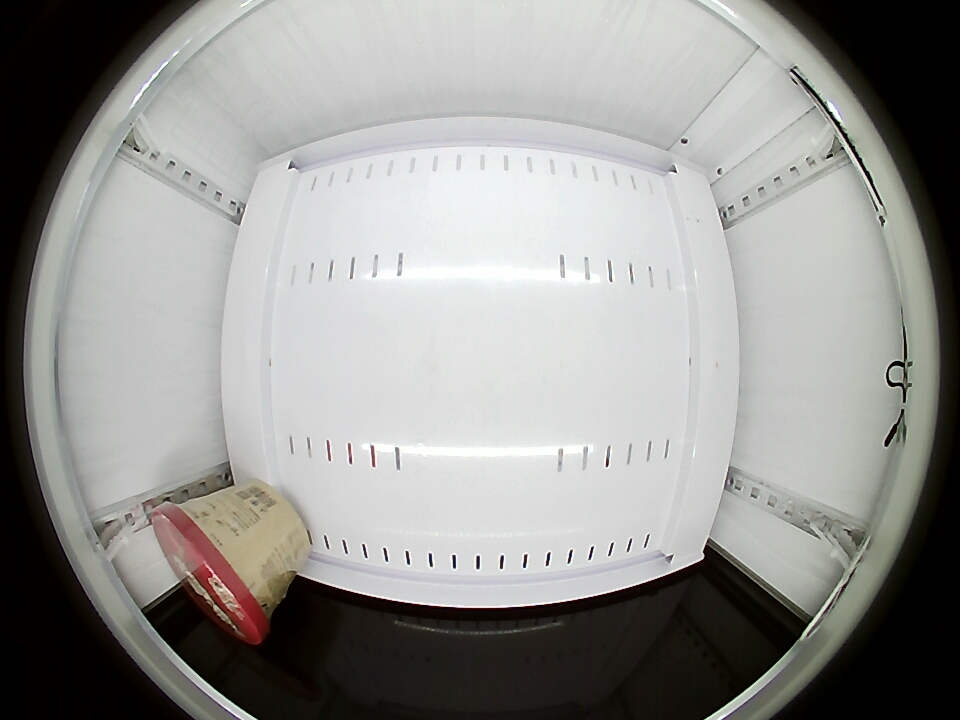suanlafen: (152, 499, 278, 644)
